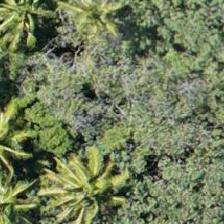coconut_tree: (42, 138, 132, 223), (33, 158, 123, 223), (46, 0, 136, 60), (0, 0, 66, 49)
